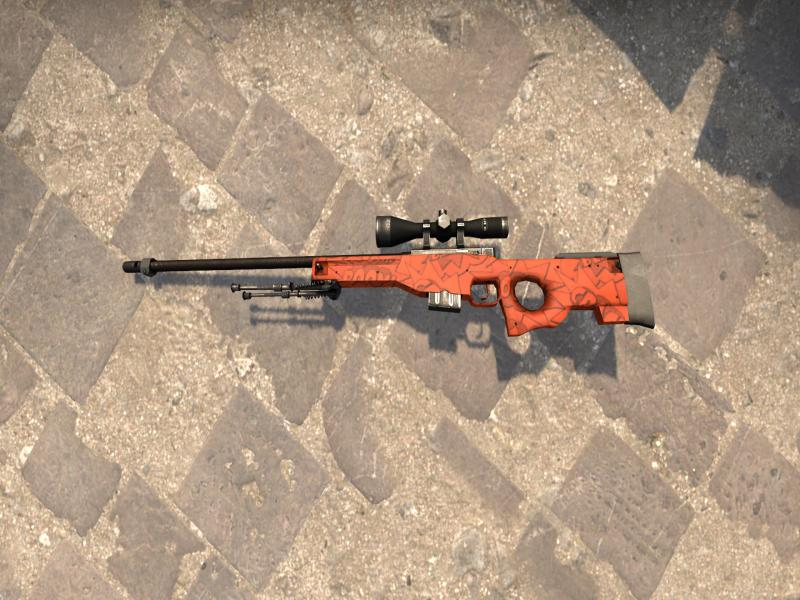AWP: (121, 216, 656, 336)
